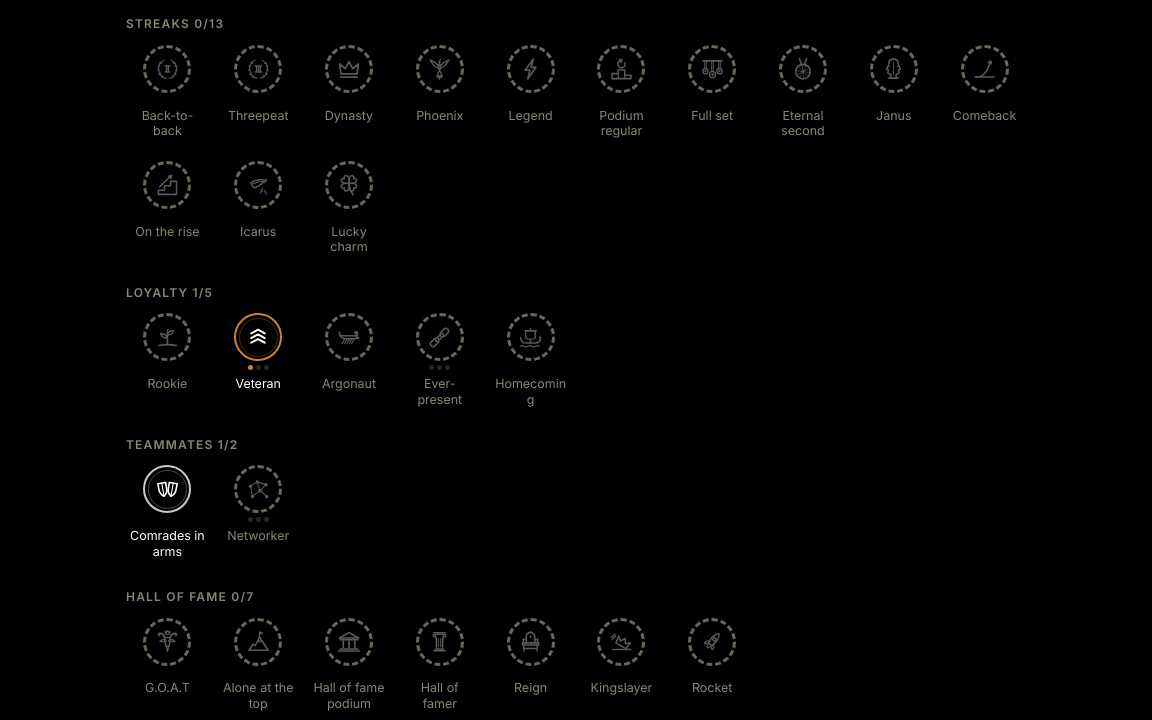
Test case: player profile page › the sheet's progress › keeps the sheet's own lines for a payload without progress, like an older API
(page scrolled)
Step 1. Click the button "Veteran" → click(258, 360), box [217, 309, 300, 411]
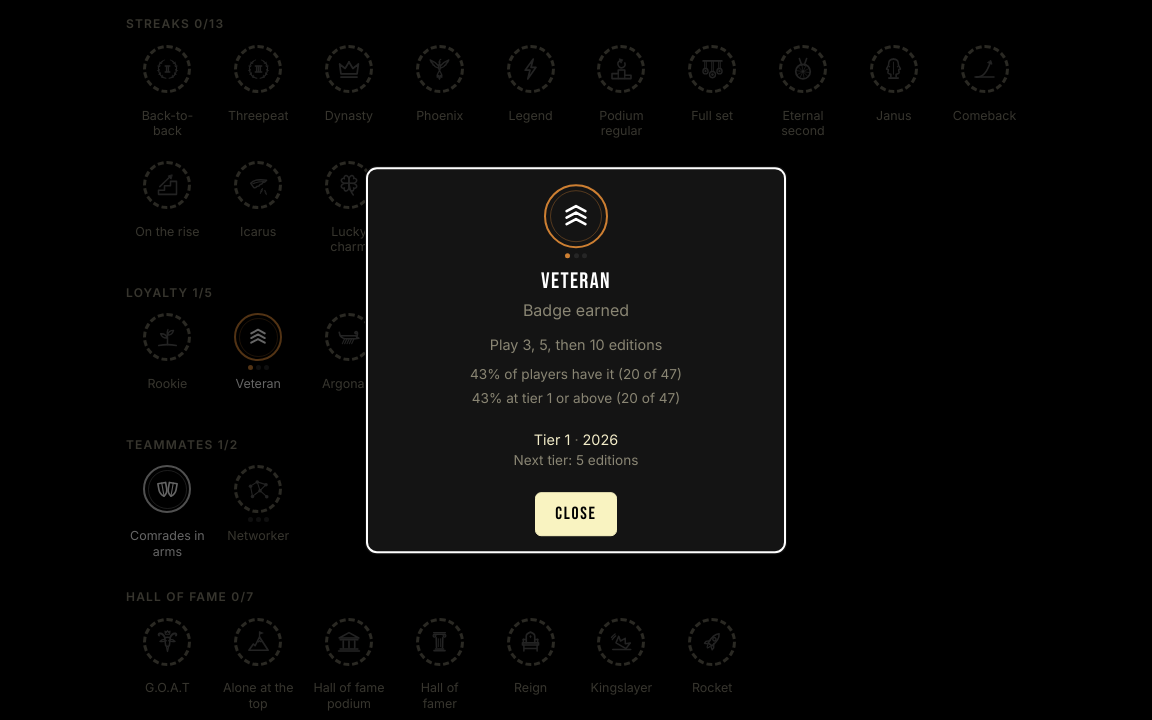
Check: the dialog "Veteran" shows "Next tier: 5 editions", box [514, 452, 638, 468]
